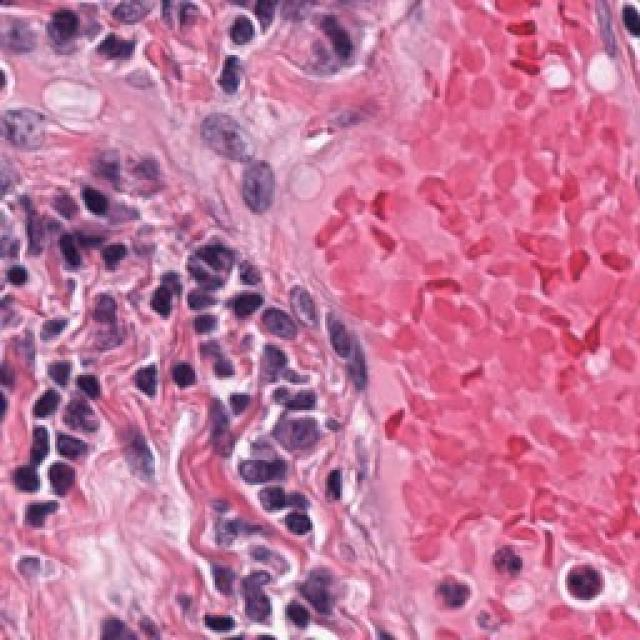normal: (266, 397, 361, 464), (281, 539, 352, 618), (220, 152, 291, 216), (272, 261, 333, 335), (197, 97, 257, 160), (7, 91, 57, 164), (0, 0, 41, 64)
